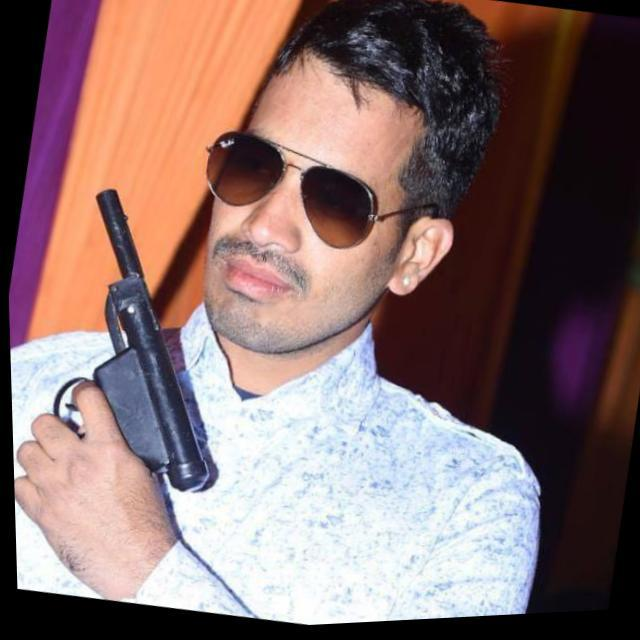weapon: (4, 167, 268, 540)
